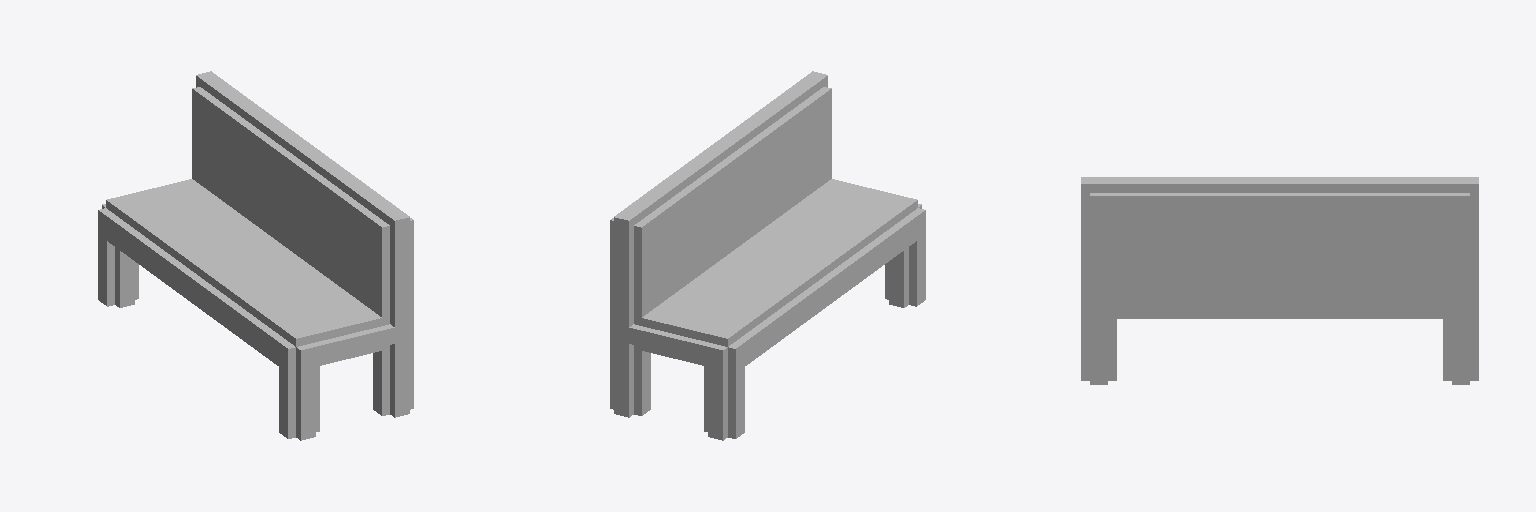
File: Mdl_ChairChurch_0.obj
3 renders of one model, left to right at view 1: azimuth 30°, elevation 25°; view 2: azimuth 150°, elevation 25°; view 3: azimuth 270°, elevation 25°, orthographic.
Visible parts, largest first — view 1: Scr_ChairChurch_0_0; view 2: Scr_ChairChurch_0_0; view 3: Scr_ChairChurch_0_0.
Part boxes in pixels (bbox=[...]): Scr_ChairChurch_0_0: bbox=[98, 71, 413, 440]; Scr_ChairChurch_0_0: bbox=[610, 71, 925, 440]; Scr_ChairChurch_0_0: bbox=[1081, 177, 1478, 384].
Size of the model in its own units: 16 by 24 by 44.